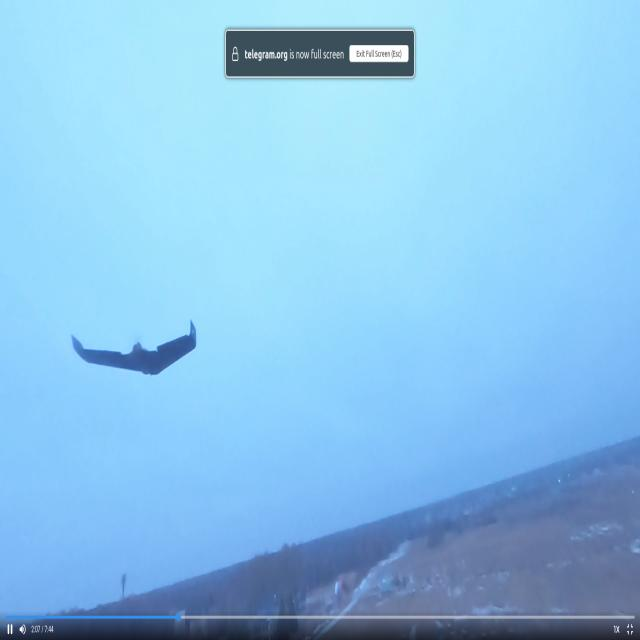planedrone: (70, 319, 196, 381)
